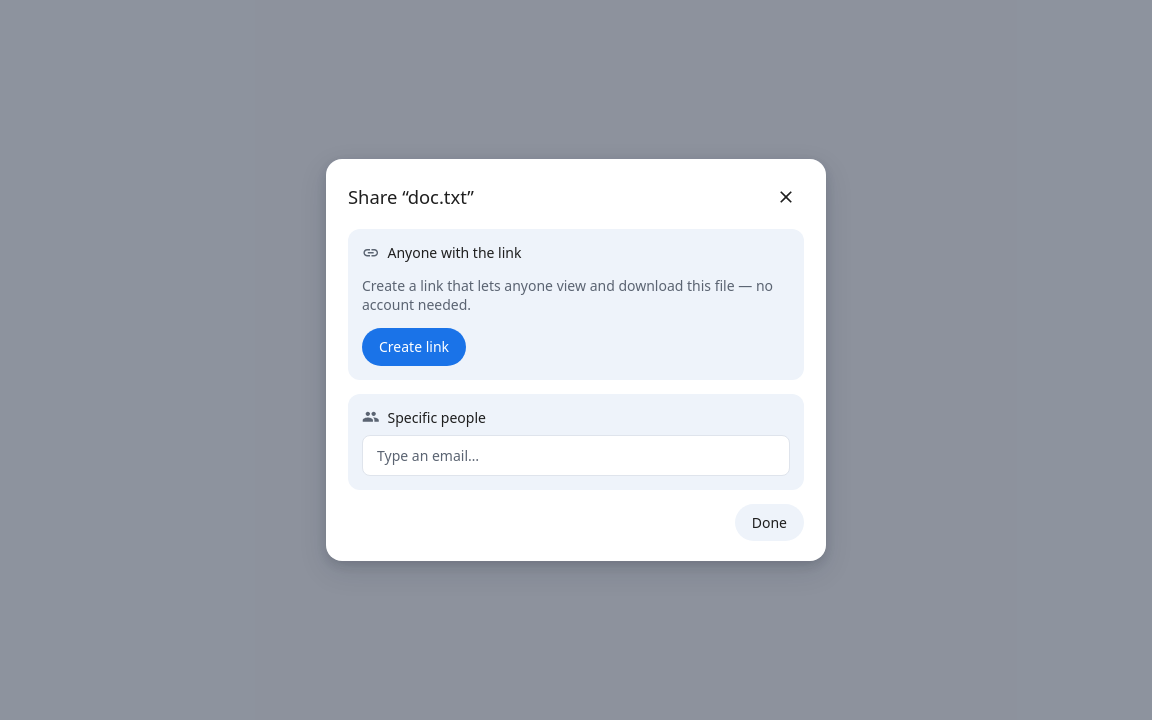
Test: ShareDialog › suggests no one until at least 3 characters are typed
The image size is (1152, 720).
# 2 characters: still nothing — no suggestions, no "no match" notice either.
In the field named "Add people by email": {"x": 576, "y": 455} [362,434,790,476], type "ca"
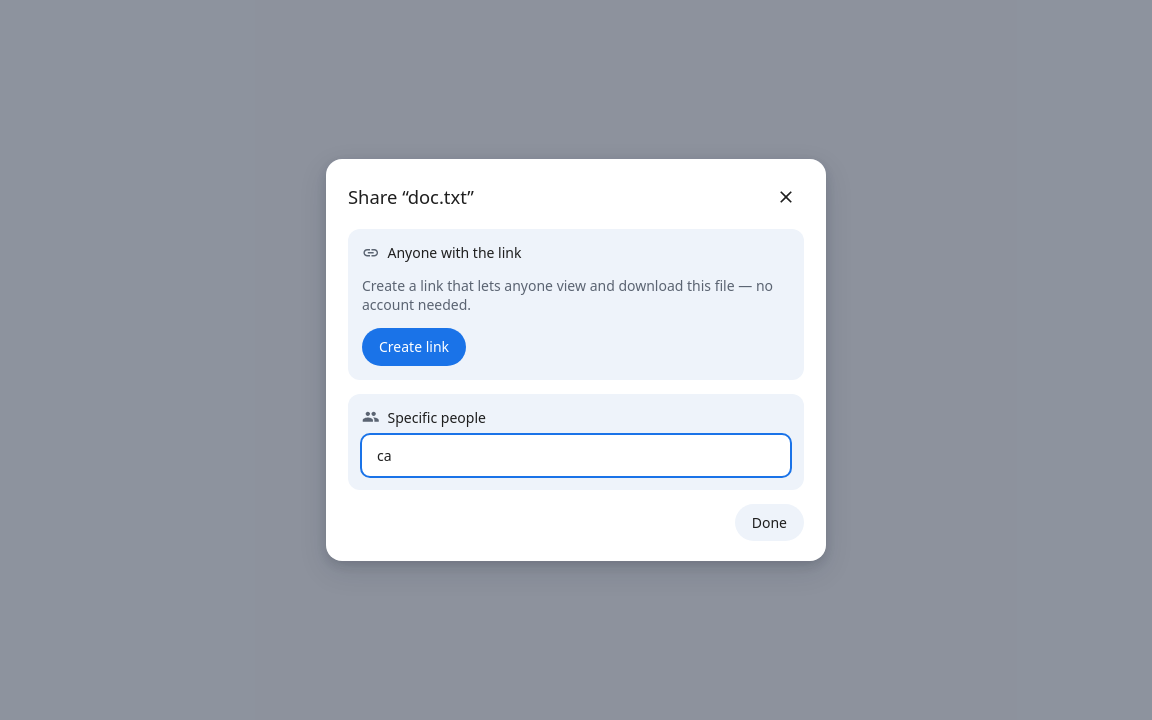
# 3rd character crosses the threshold.
In the field named "Add people by email": {"x": 576, "y": 455} [362,434,790,476], type "r"
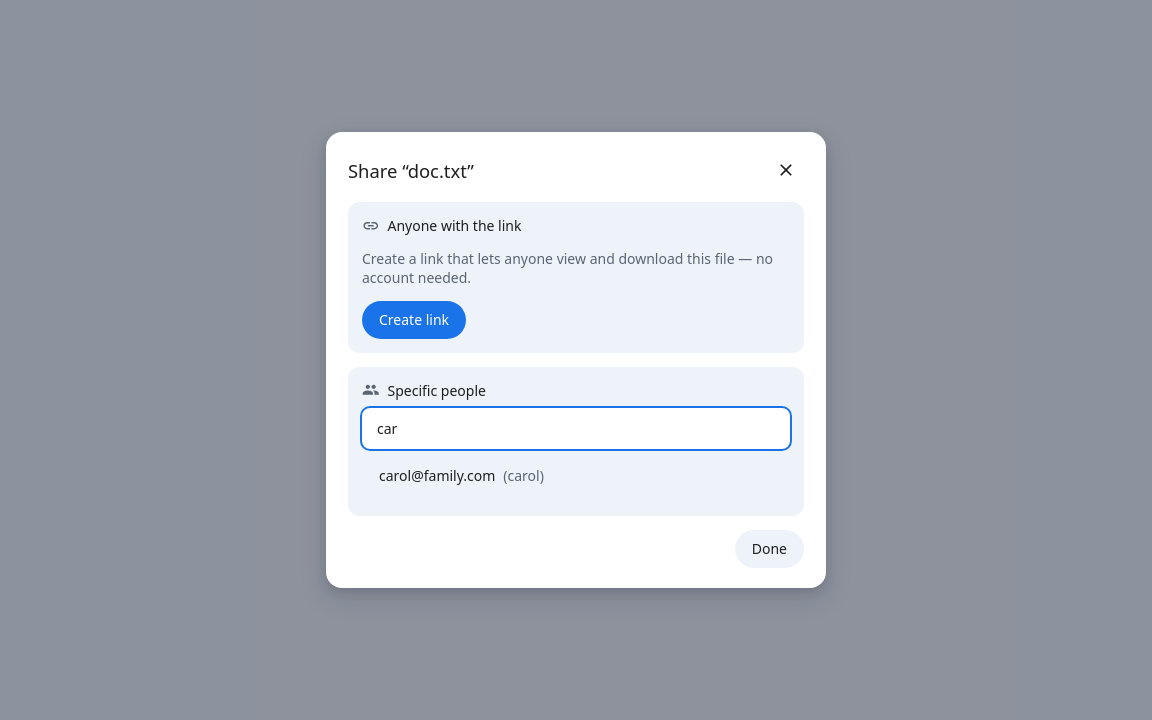
expect the option "carol@family.com (carol)" is shown: met, box [362,457,790,494]
Clear the field named "Add people by email": {"x": 576, "y": 428} [362,408,790,449]
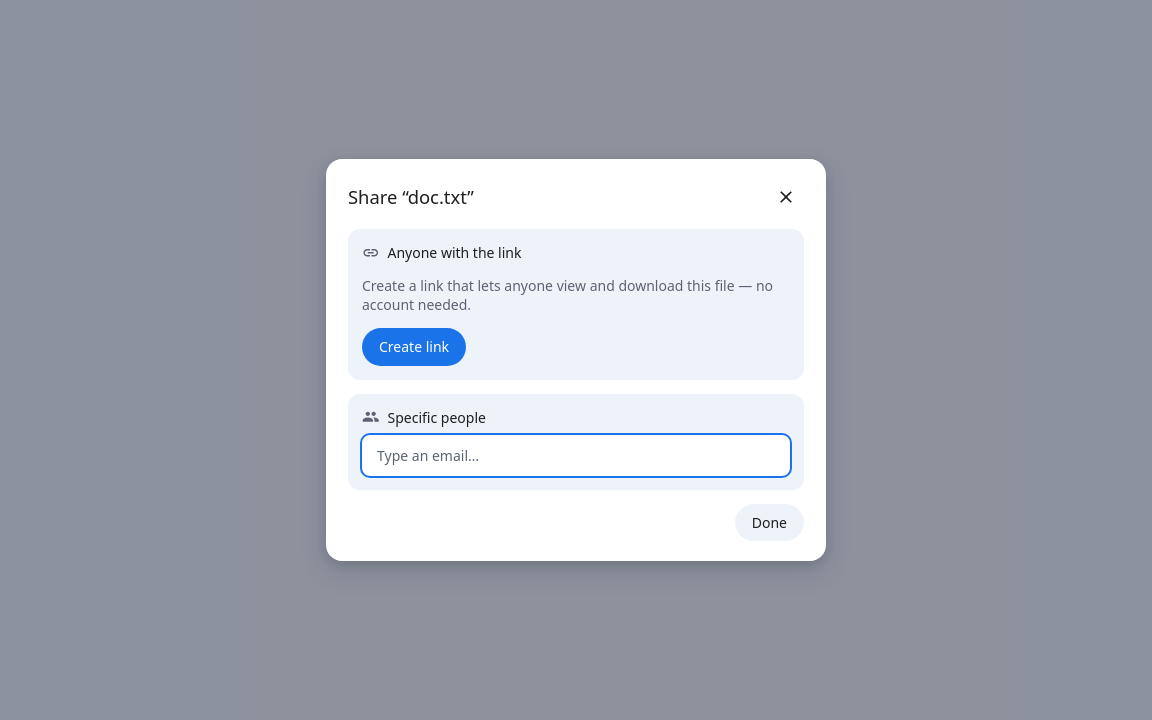
expect the option is gone: met
